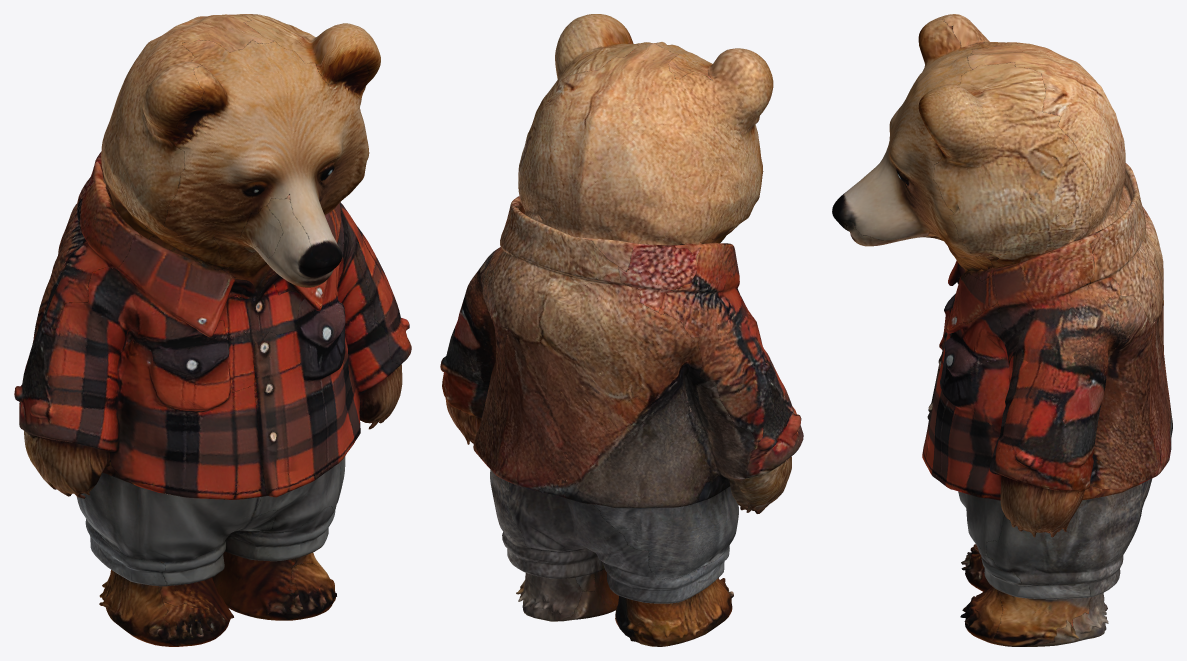
The picture shows the model from 3 angles, left to right: view 1: azimuth 30°, elevation 25°; view 2: azimuth 150°, elevation 25°; view 3: azimuth 270°, elevation 25°; orthographic projection. The views are drawn at different scales.
Visible parts, largest first — view 1: texture_v128_amrb_13w_cfg2_hdr; view 2: texture_v128_amrb_13w_cfg2_hdr; view 3: texture_v128_amrb_13w_cfg2_hdr.
Part boxes in pixels (x1,y1,x2,y2): texture_v128_amrb_13w_cfg2_hdr: (14,14,411,646); texture_v128_amrb_13w_cfg2_hdr: (440,14,803,646); texture_v128_amrb_13w_cfg2_hdr: (832,14,1172,646).
Bounding box in the file's own units: 1.32 × 2 × 1.12.
1 material, 1 textured.
